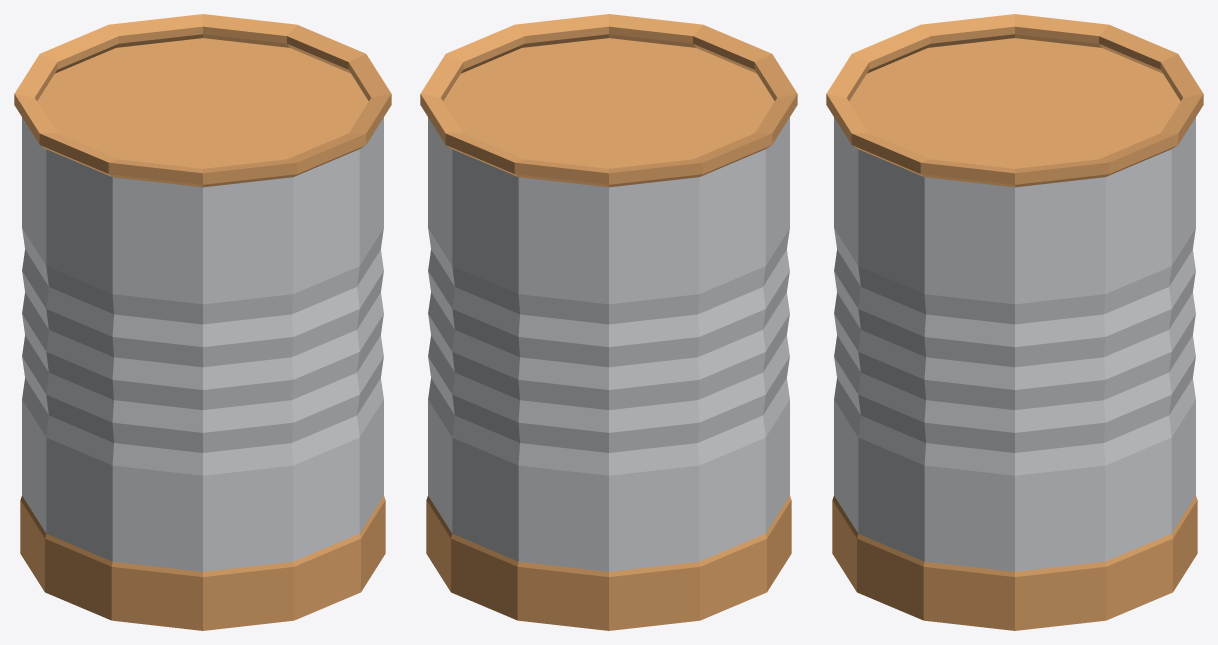
File: can_closed.glb
The picture shows the model from 3 angles, left to right: view 1: azimuth 30°, elevation 25°; view 2: azimuth 150°, elevation 25°; view 3: azimuth 270°, elevation 25°; orthographic projection.
Parts seen in each view (by area): view 1: Can_Closed; view 2: Can_Closed; view 3: Can_Closed.
Part boxes in pixels (x1,y1,x2,y2): Can_Closed: (14,14,391,630); Can_Closed: (420,14,797,630); Can_Closed: (826,14,1203,630).
Bounding box in the file's own units: 0.4733 × 0.6375 × 0.4733.
